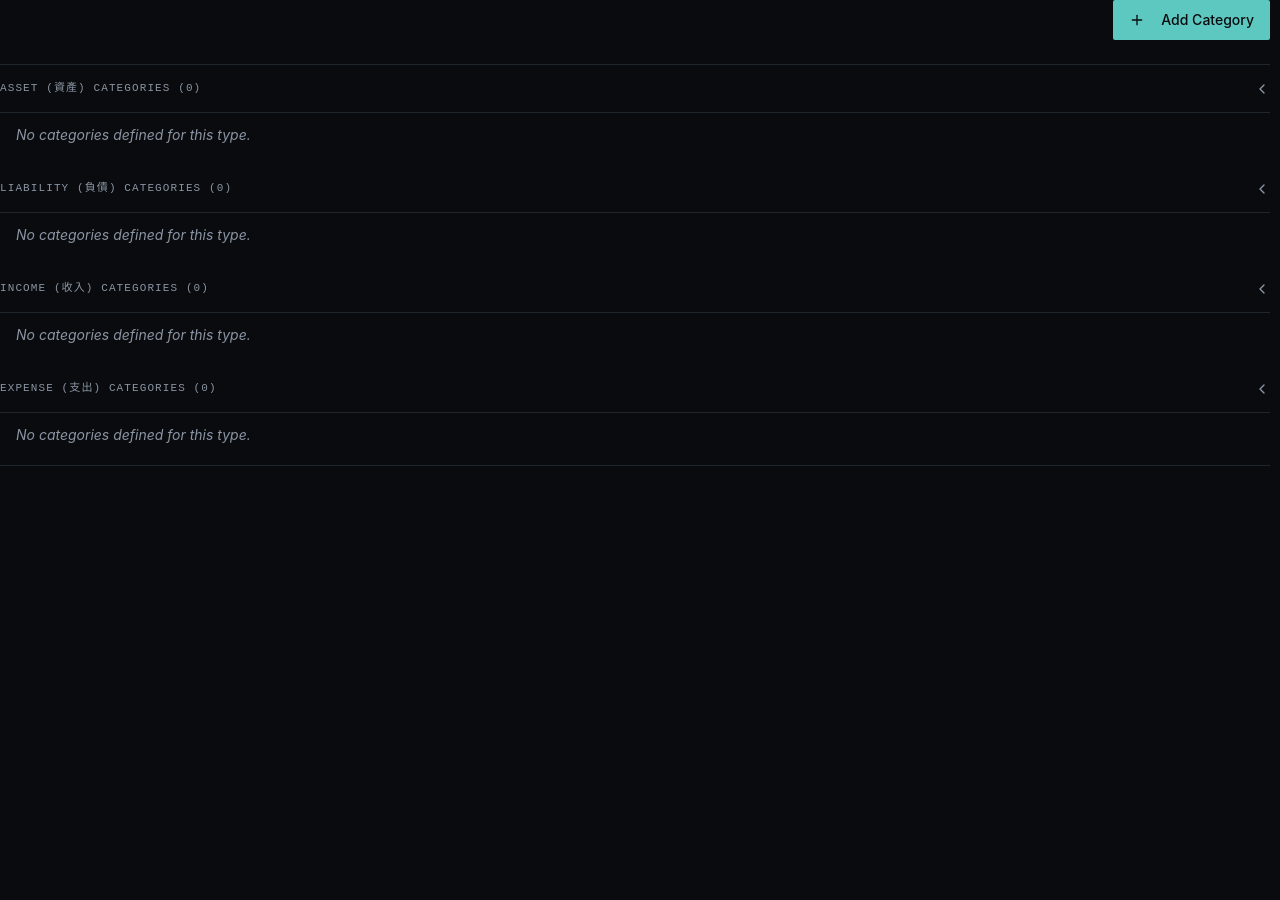
Scenario: LedgerCodeSettings › submits the add form through the hook and closes the dialog on success
Click the button "Add Category" at (1192, 20), box [1113,0,1270,40]
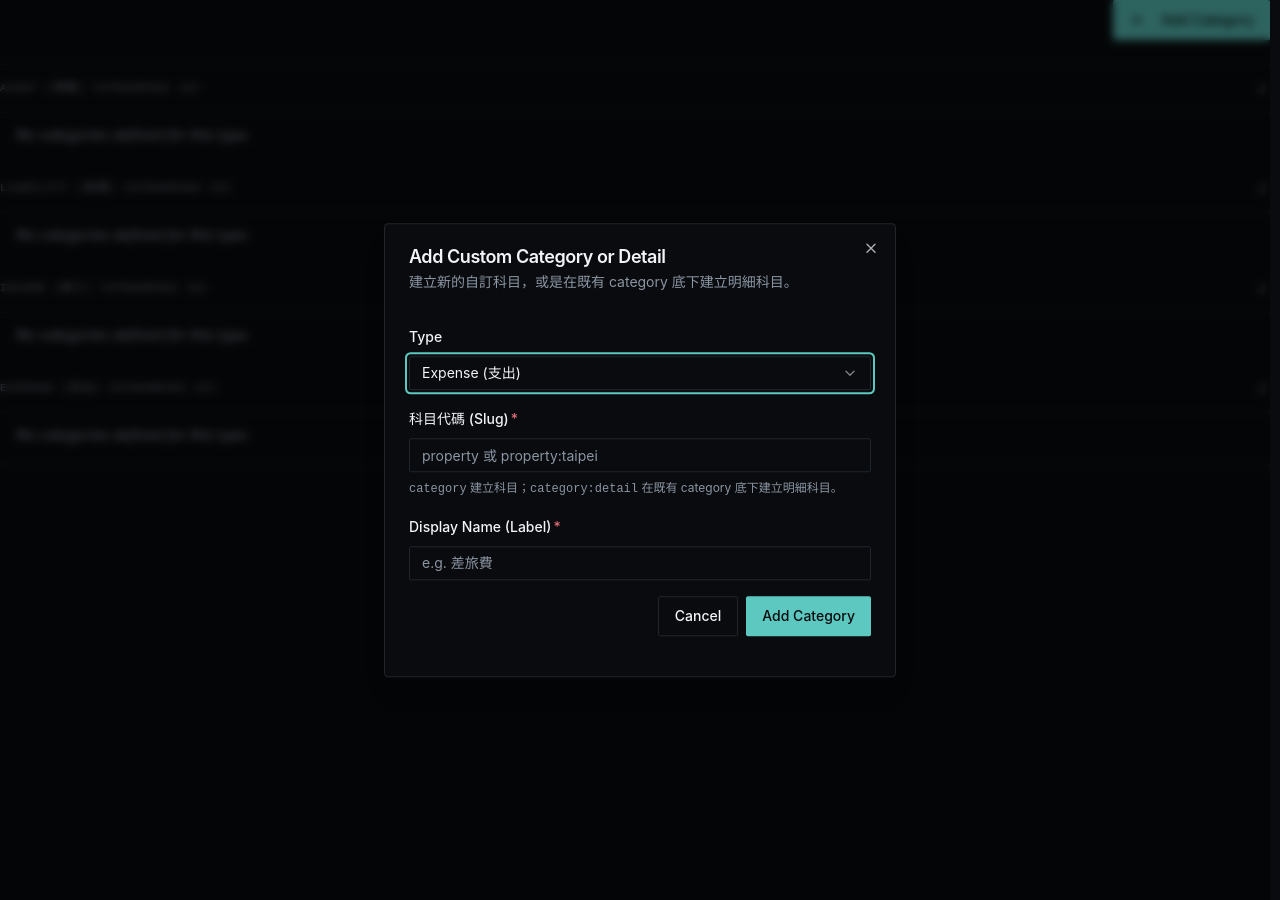
Type "travel" into the field with placeholder "property 或 property:taipei" at (640, 455), box [409,438,871,472]
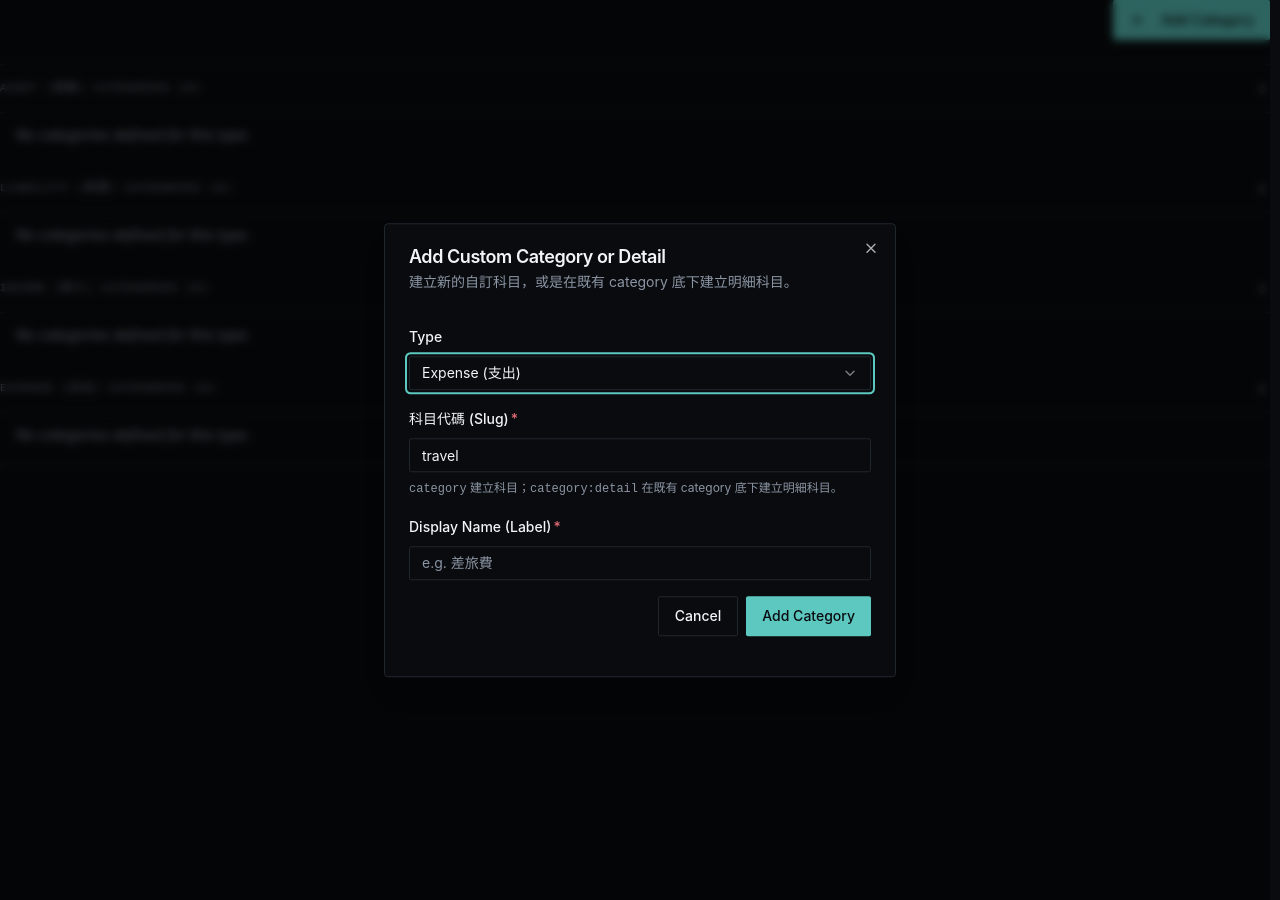
Type "差旅費" into the field with placeholder "e.g. 差旅費" at (640, 563), box [409,546,871,580]
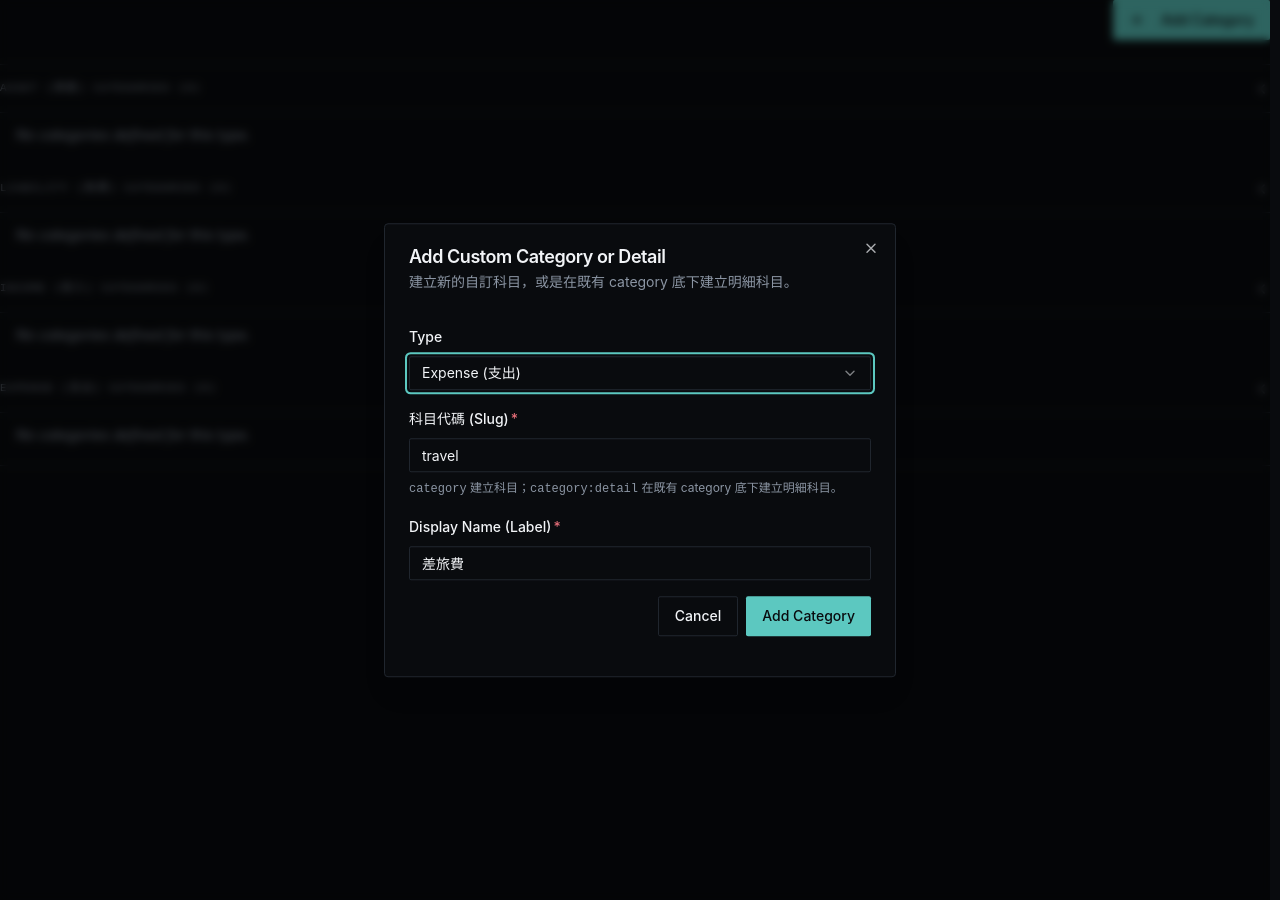
Click the button "Add Category" at (809, 616), box [746,596,871,636]
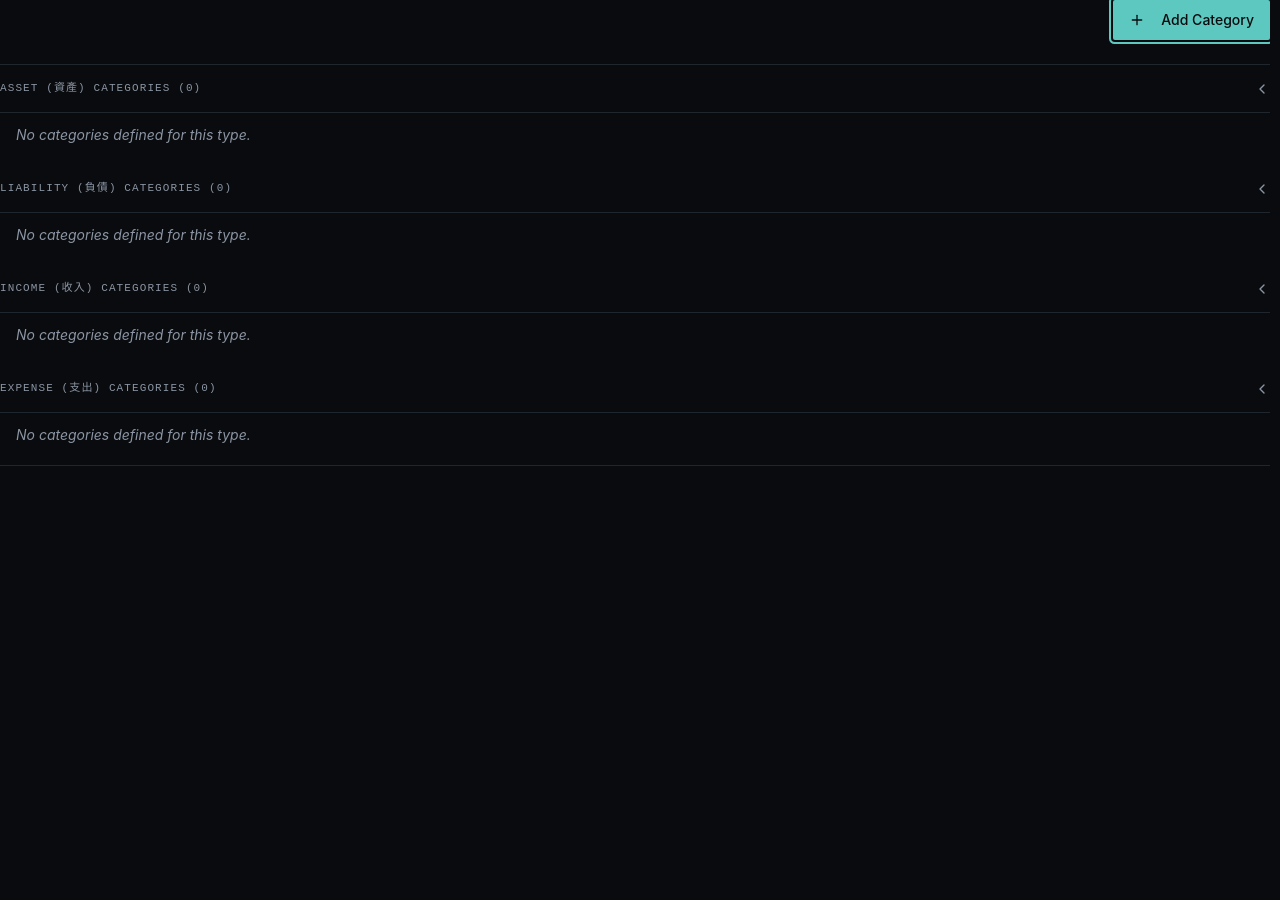
Result: the dialog is gone
